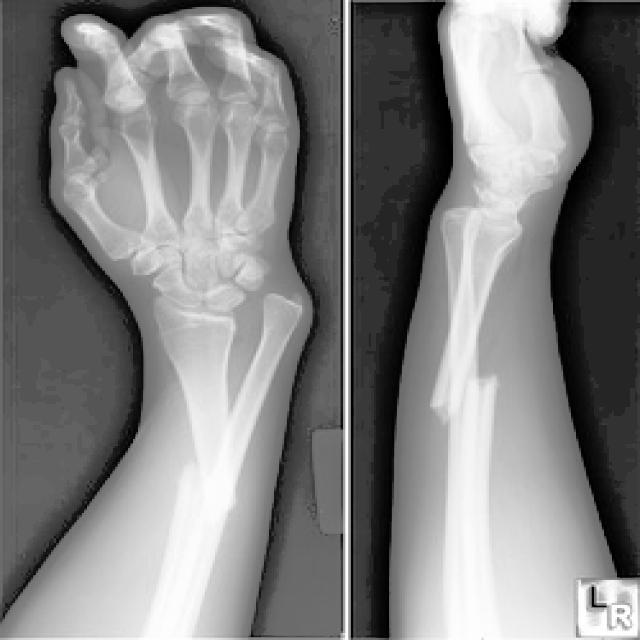GreenStick Fracture: (183, 447, 244, 528), (424, 366, 506, 426)
